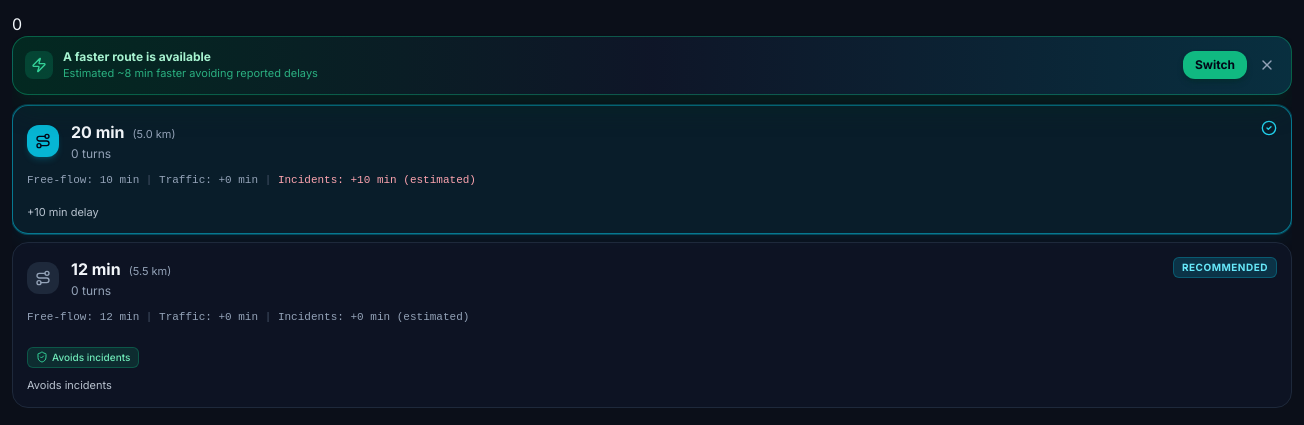
Test: Route Recommendation and Selection Flow › switches to the recommended route ONLY when the user clicks Switch button
The width and height of the screenshot is (1304, 425).
Expected: the text with test id "current-selected-index" reads "0", x1=12 y1=14 x2=22 y2=34
Click the button "Switch" at (1215, 65), box x1=1183 y1=51 x2=1247 y2=79
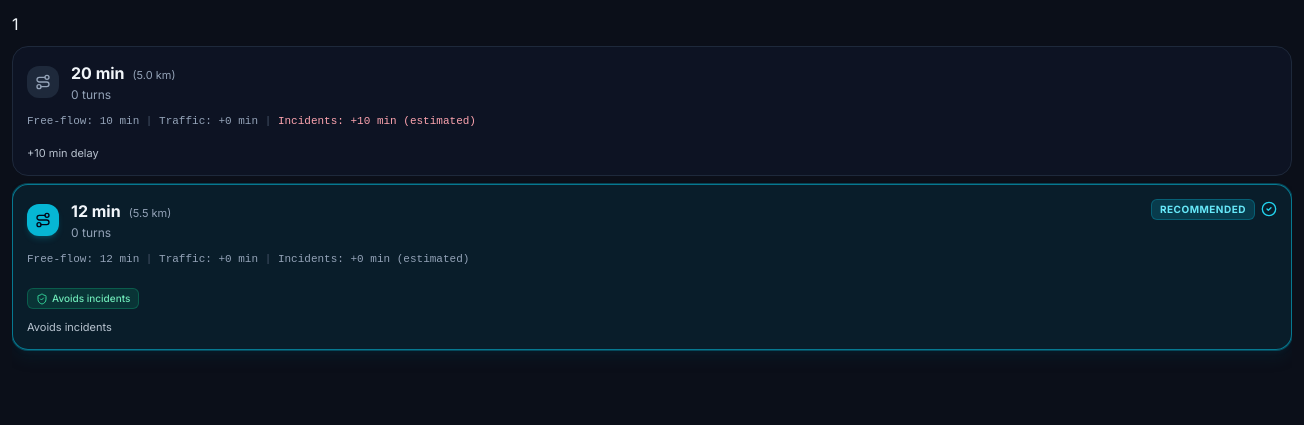
Expected: the text with test id "current-selected-index" reads "1", x1=12 y1=14 x2=18 y2=34
Expected: the text "A faster route is available" is gone
